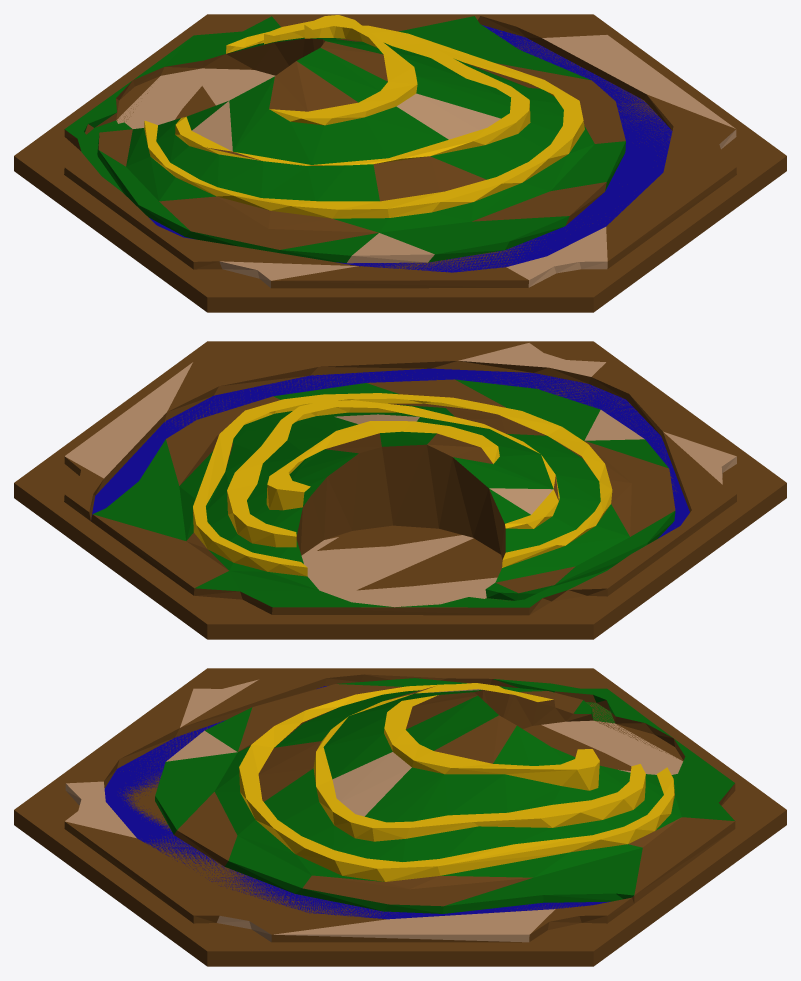
3 views of the same model, one above another, from view 1: azimuth 30°, elevation 25°; view 2: azimuth 150°, elevation 25°; view 3: azimuth 270°, elevation 25° (orthographic).
Visible parts, largest first — view 1: GrainTileWoo_2, Hex, Grain; view 2: GrainTileWoo_2, Hex, Grain; view 3: GrainTileWoo_2, Hex, Grain.
Part boxes in pixels (x1,y1,x2,y2): GrainTileWoo_2: (64, 15, 736, 288); Hex: (14, 14, 786, 312); Grain: (144, 15, 584, 218); GrainTileWoo_2: (64, 342, 736, 615); Hex: (14, 341, 786, 639); Grain: (193, 393, 612, 576); GrainTileWoo_2: (64, 669, 735, 942); Hex: (14, 668, 786, 966); Grain: (239, 683, 674, 881).
Bounding box in the file's own units: 39.84 × 6.42 × 46.
